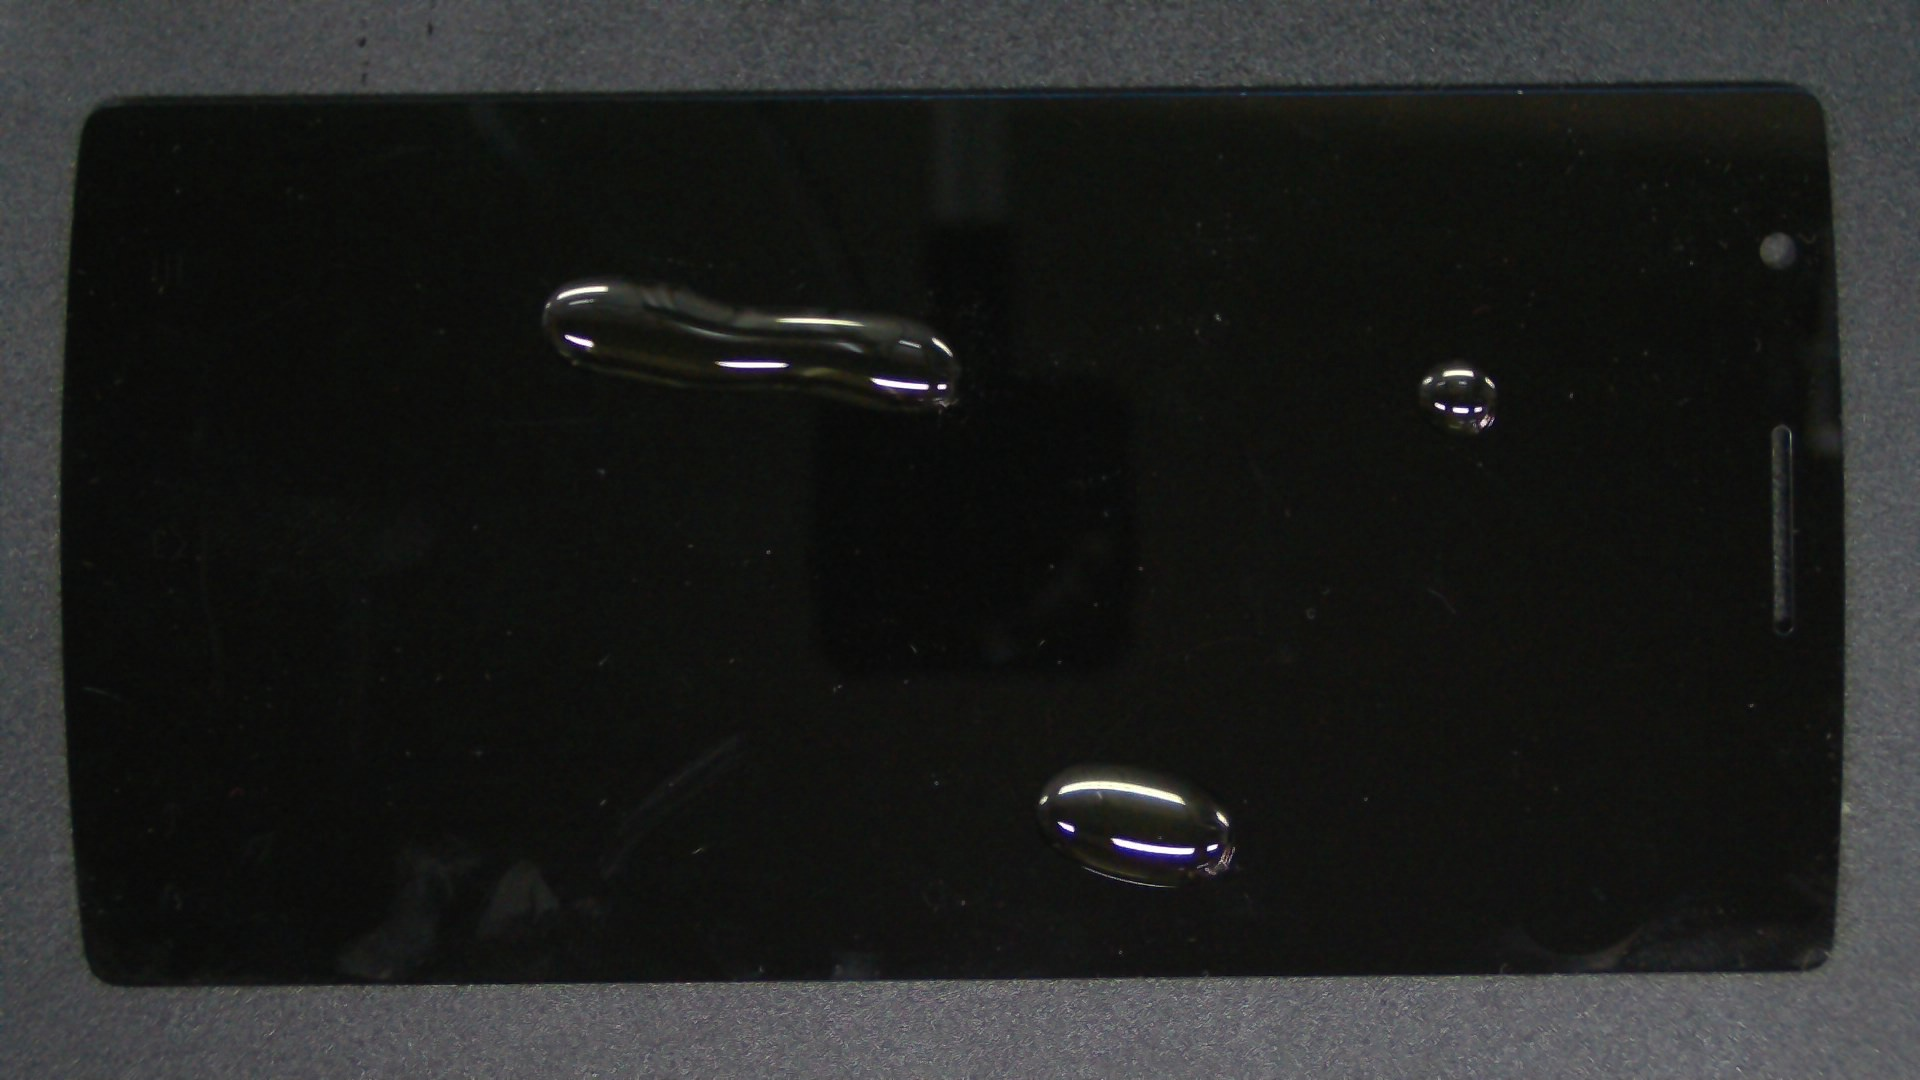oil: (541, 381, 1618, 1080), (728, 179, 1920, 539), (290, 140, 866, 421)
